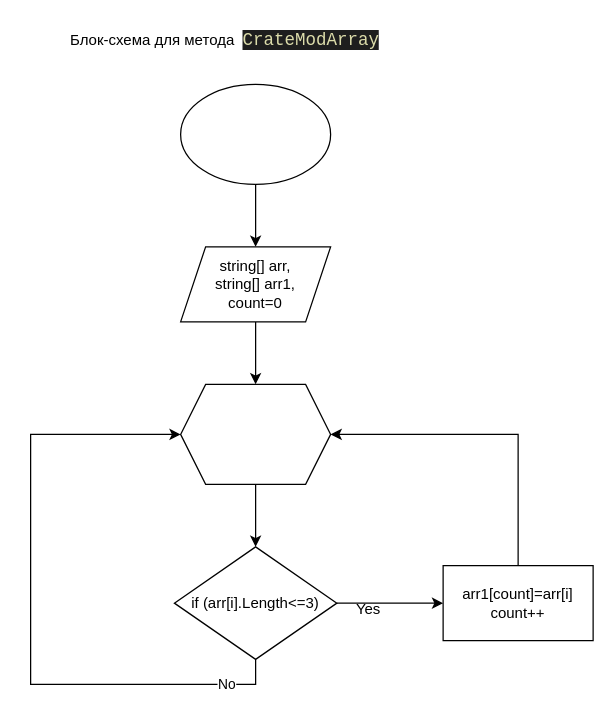
This 615x716 diagram has some shape labels left out. Each missing label, with the centre of its shape:
CrateModArray: (x=255, y=133)
for (i=0, i<arr.Length, i++): (x=255, y=433)
